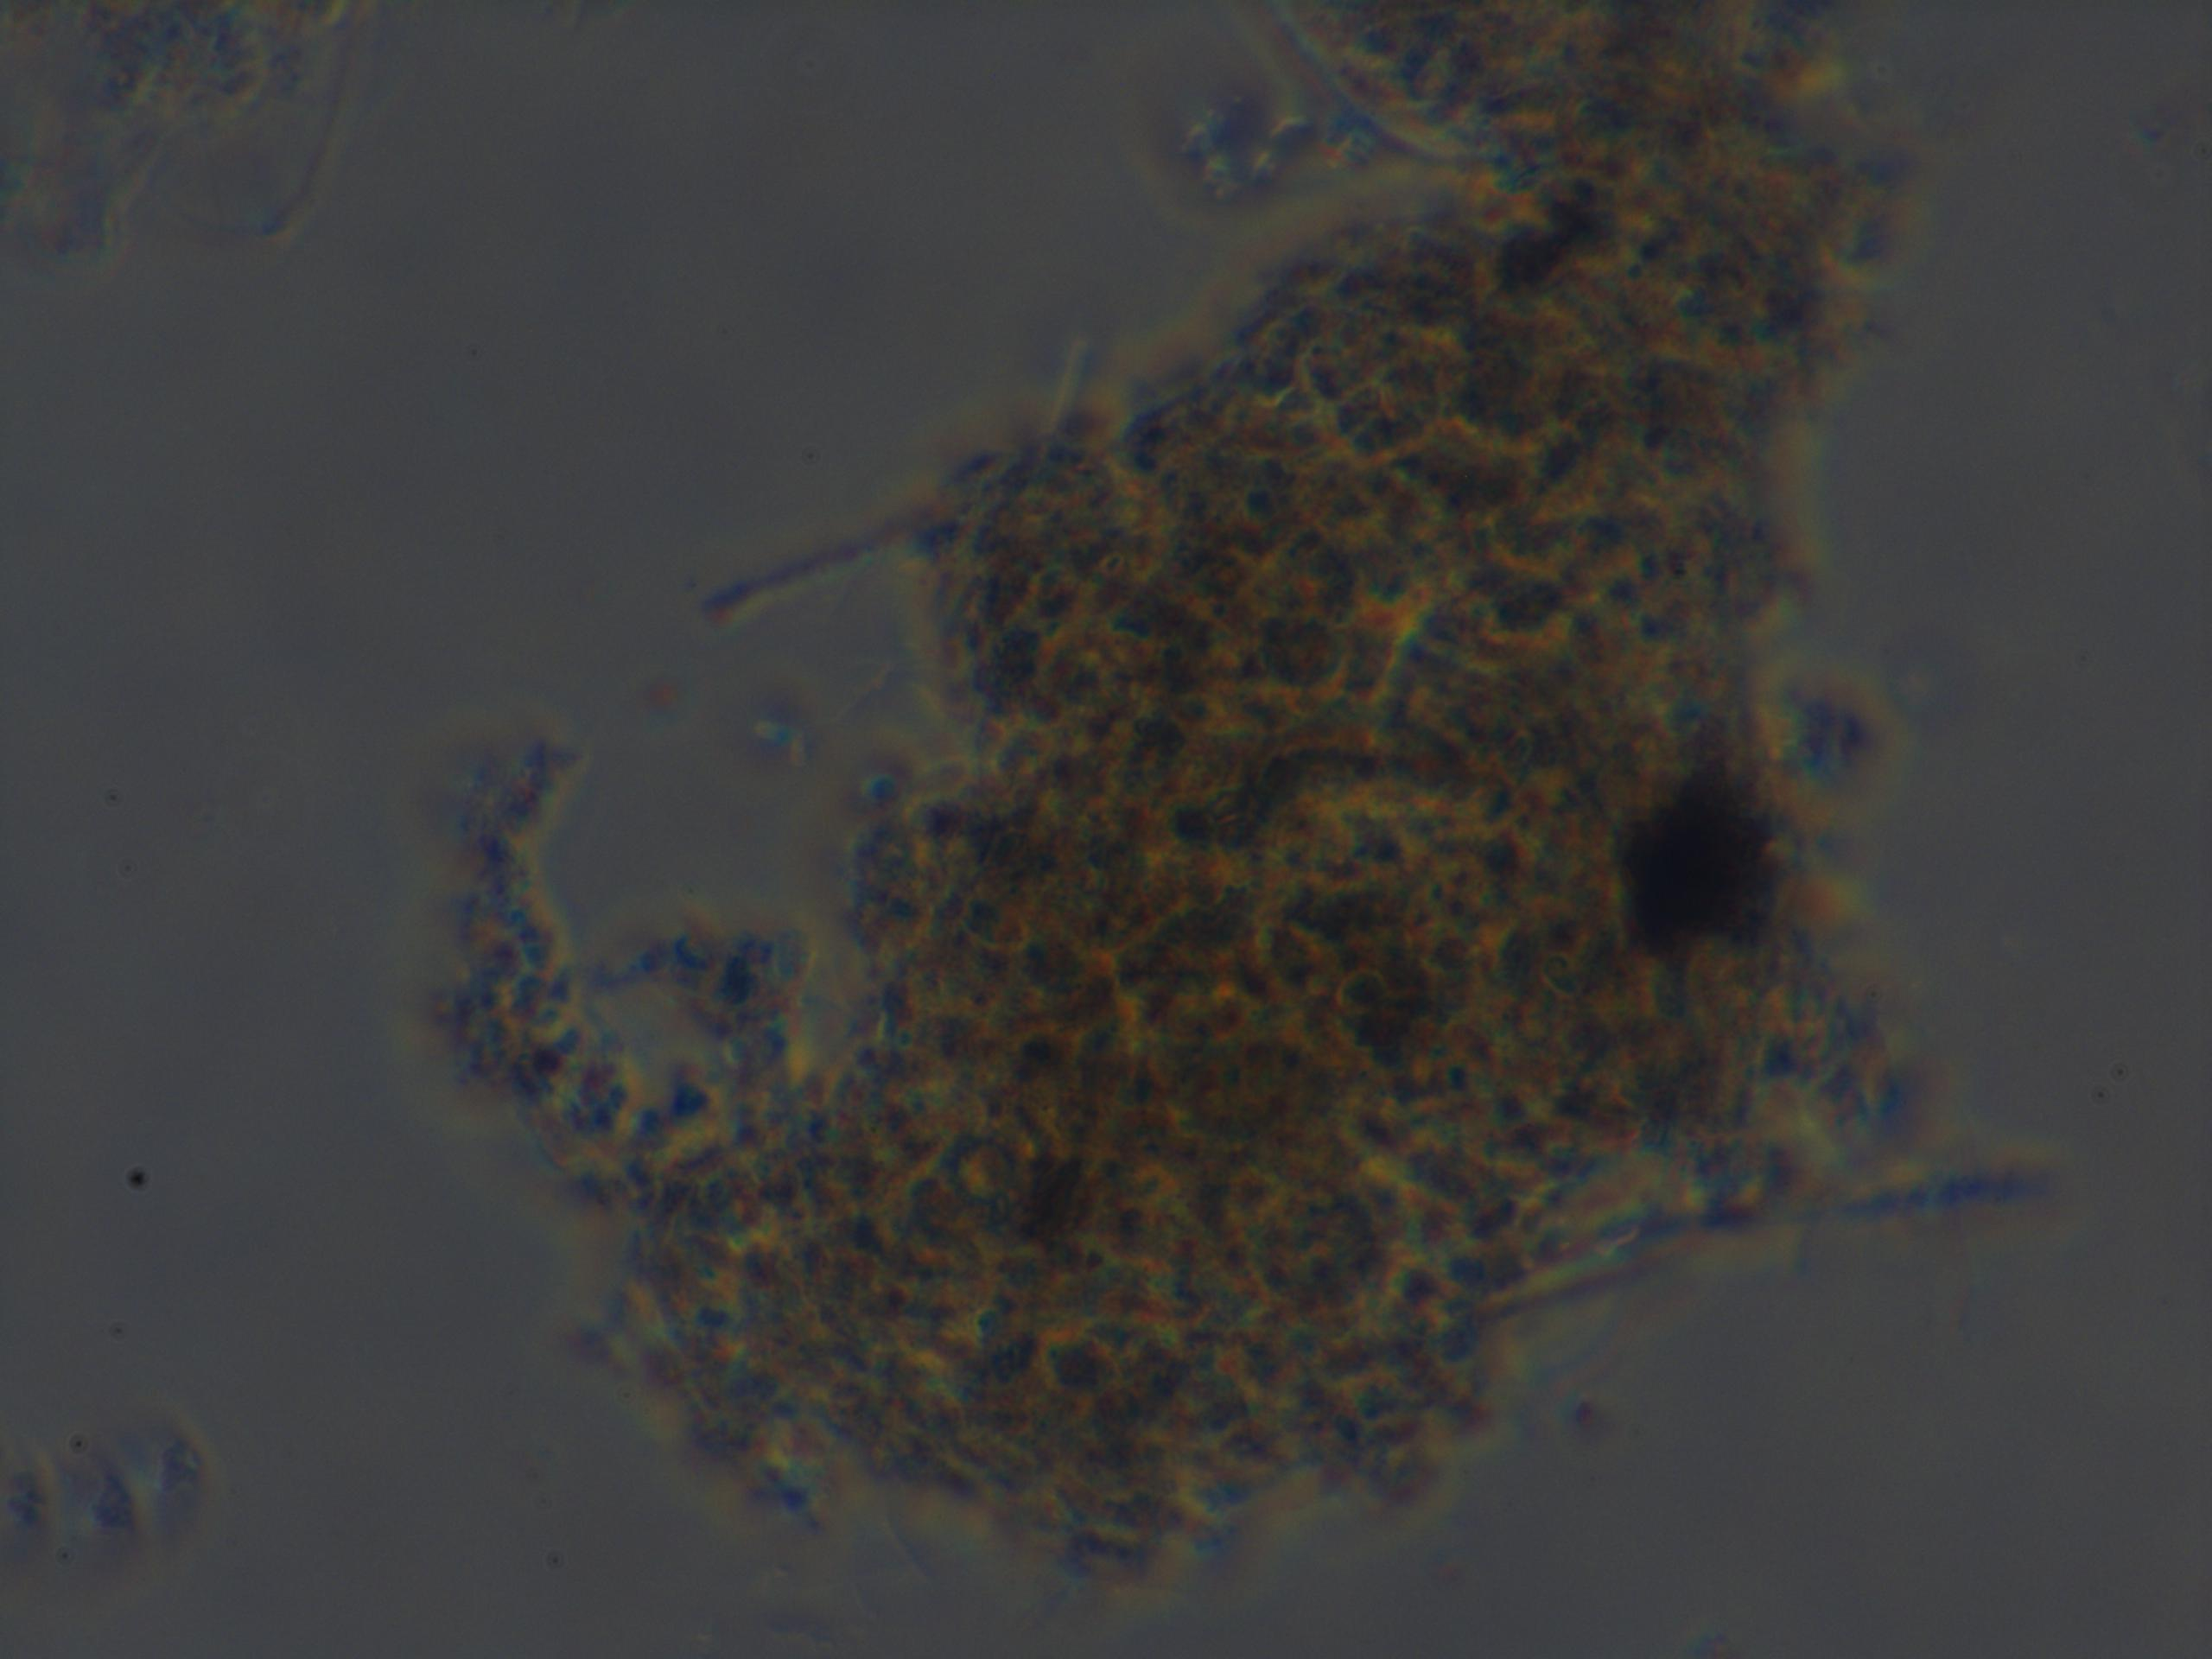filament: (1564, 1159, 2055, 1267), (672, 462, 996, 626)
spherical_floc: (573, 225, 1850, 1563)
